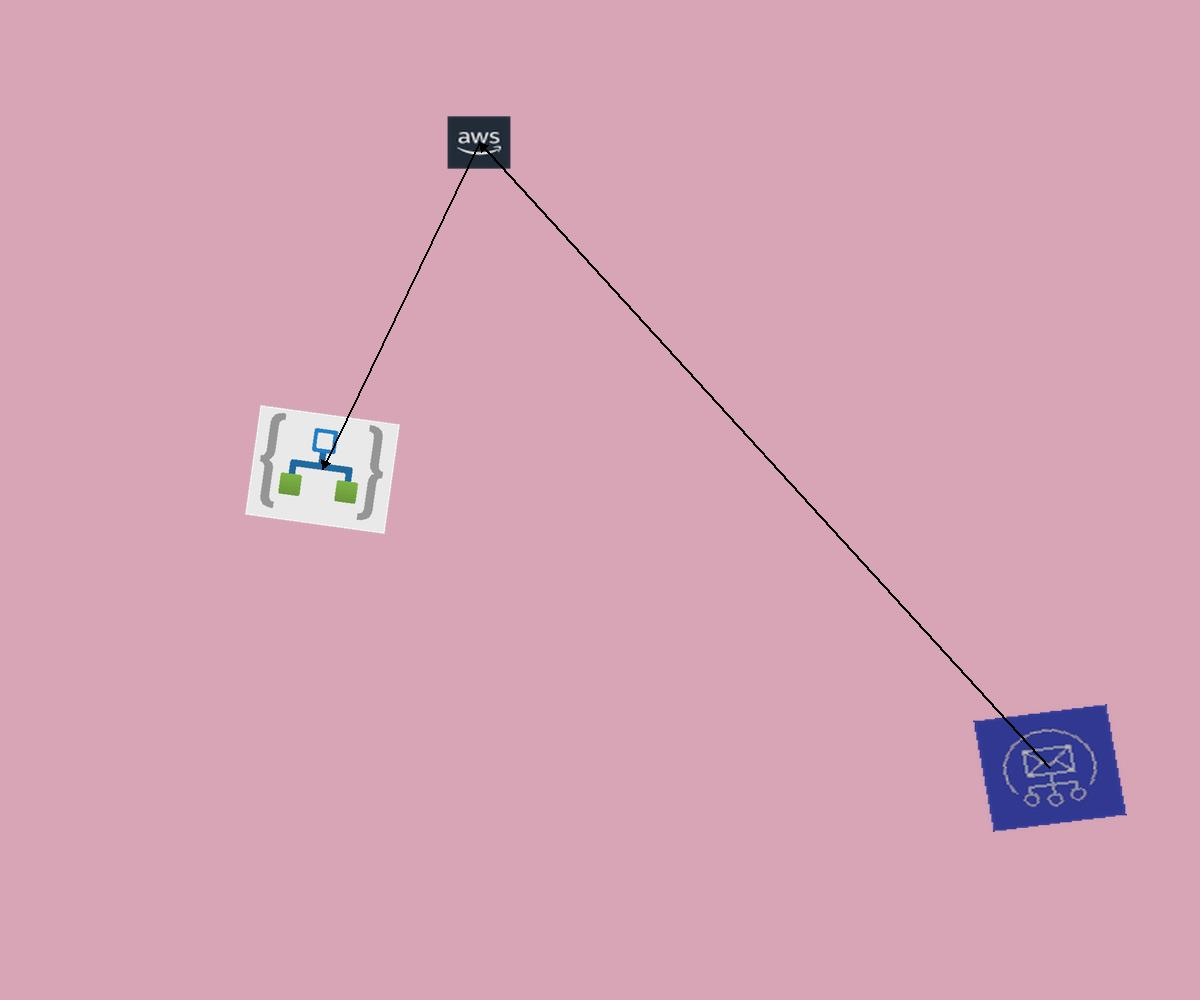AWS-Cloud-logo: (446, 115, 512, 170)
AWS-Simple-Email-Service: (973, 704, 1127, 832)
Azure_integration-204-Logic-Apps: (245, 405, 400, 534)
